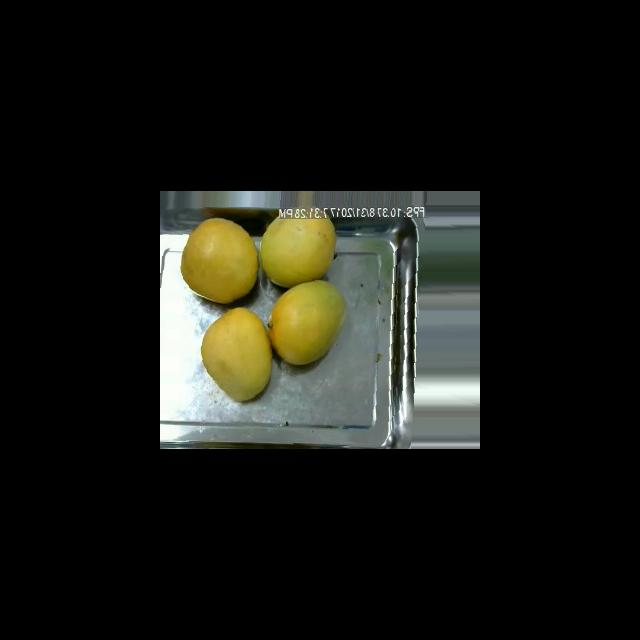Mango: (200, 306, 272, 402), (180, 217, 258, 304), (268, 279, 346, 365), (259, 215, 336, 287)
